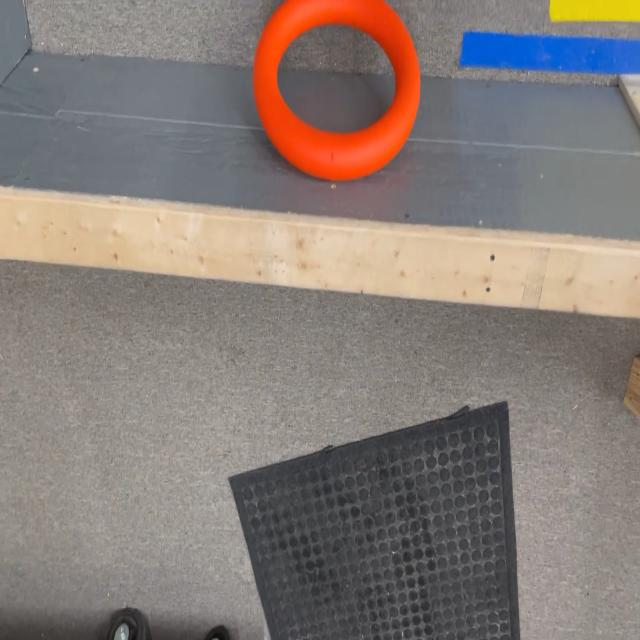note: (253, 0, 421, 182)
